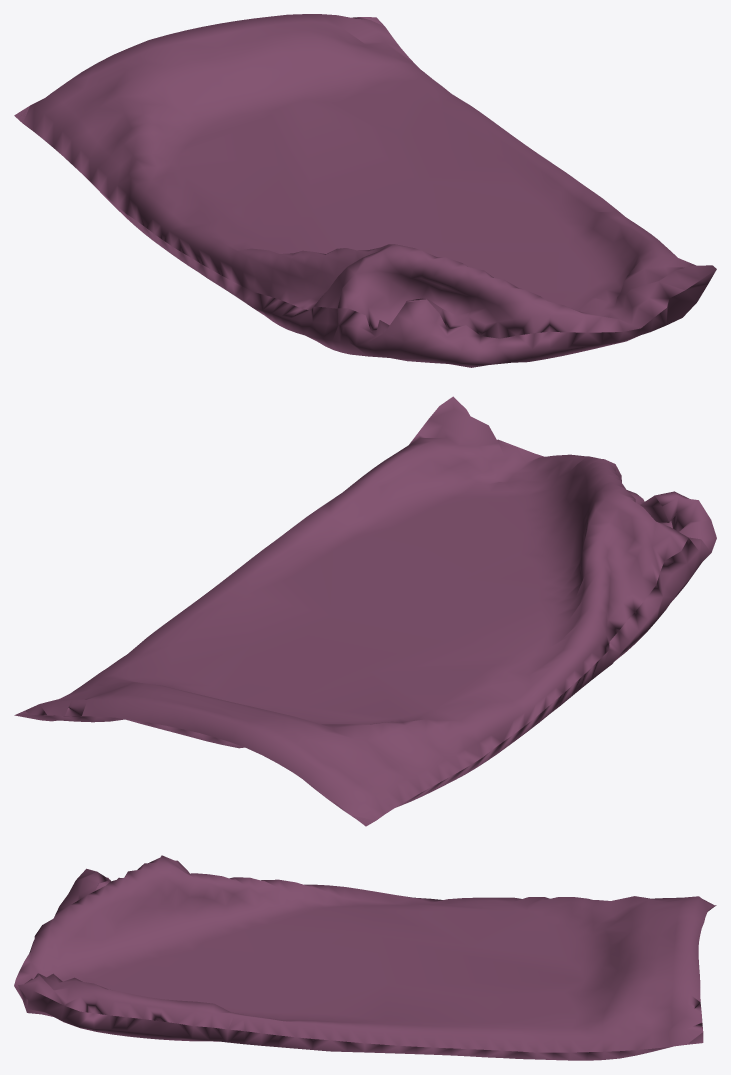
The model's file is BedB_SheetBottom_A.FBX.
The picture shows the model from 3 angles, top to bottom: view 1: azimuth 30°, elevation 25°; view 2: azimuth 150°, elevation 25°; view 3: azimuth 270°, elevation 25°; orthographic projection. The views are drawn at different scales.
Visible parts, largest first — view 1: default; view 2: default; view 3: default.
Boxes of the visible parts, <box> form: default: <box>14,14,716,367</box>; default: <box>14,396,716,826</box>; default: <box>14,855,716,1060</box>.
Bounding box in the file's own units: 31.97 × 9.35 × 60.81.
